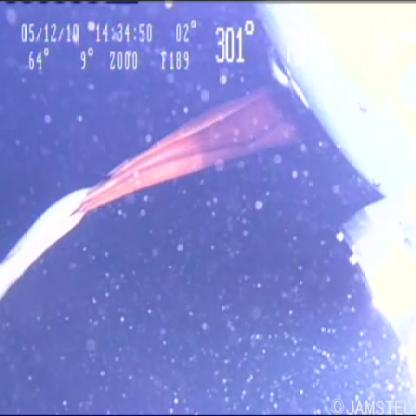Bio: (1, 70, 309, 302)
